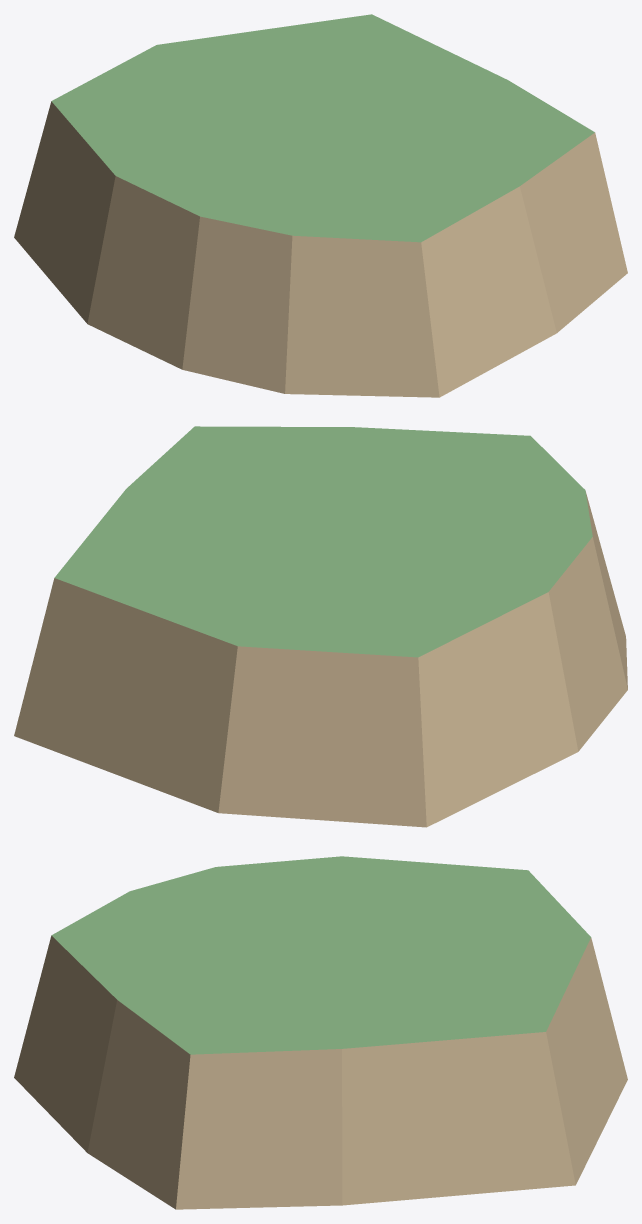
Rendered from LandIsland.001.fbx.
3 views of the same model, one above another, from view 1: azimuth 30°, elevation 25°; view 2: azimuth 150°, elevation 25°; view 3: azimuth 270°, elevation 25° (orthographic). The views are drawn at different scales.
Visible parts, largest first — view 1: LandIsland.001; view 2: LandIsland.001; view 3: LandIsland.001.
Boxes of the visible parts, <box> form: LandIsland.001: <box>14,14,627,397</box>; LandIsland.001: <box>14,426,627,827</box>; LandIsland.001: <box>14,856,627,1209</box>.
Size of the model in its own units: 1767 by 523 by 2042.
